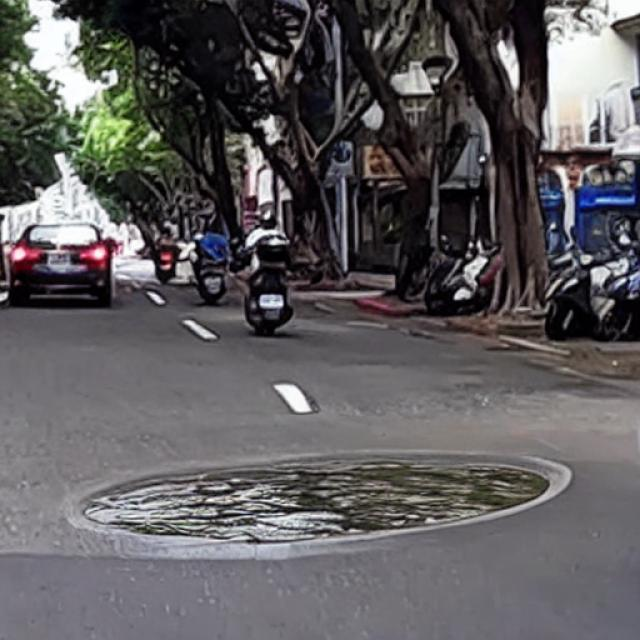puddle: (84, 459, 552, 545)
